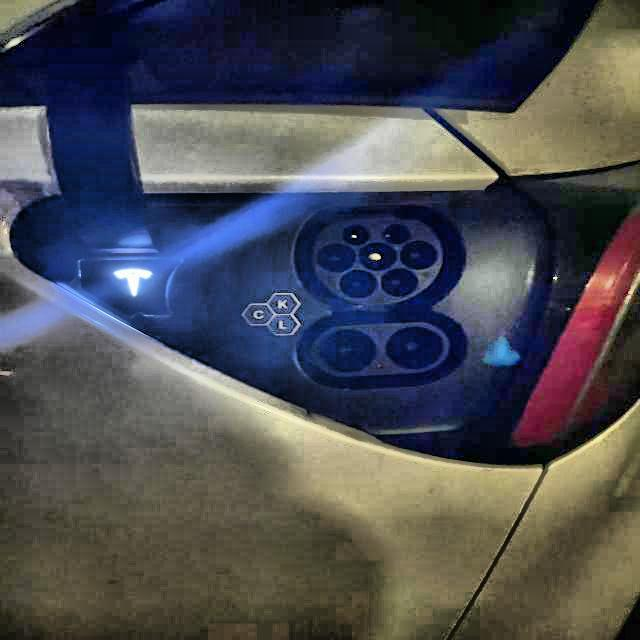inlet: (311, 218, 443, 305)
inlet-above-left: (343, 225, 371, 246)
inlet-above-right: (383, 224, 411, 244)
inlet-below-left: (339, 270, 378, 299)
inlet-below-right: (381, 268, 419, 297)
inlet-center: (359, 241, 397, 271)
inlet-center-left: (316, 243, 356, 272)
inlet-center-right: (400, 240, 438, 270)
